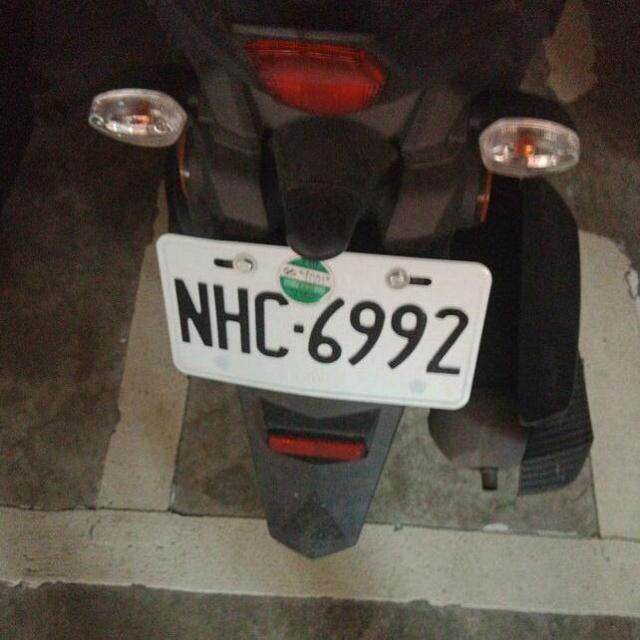W: (142, 222, 500, 421)
